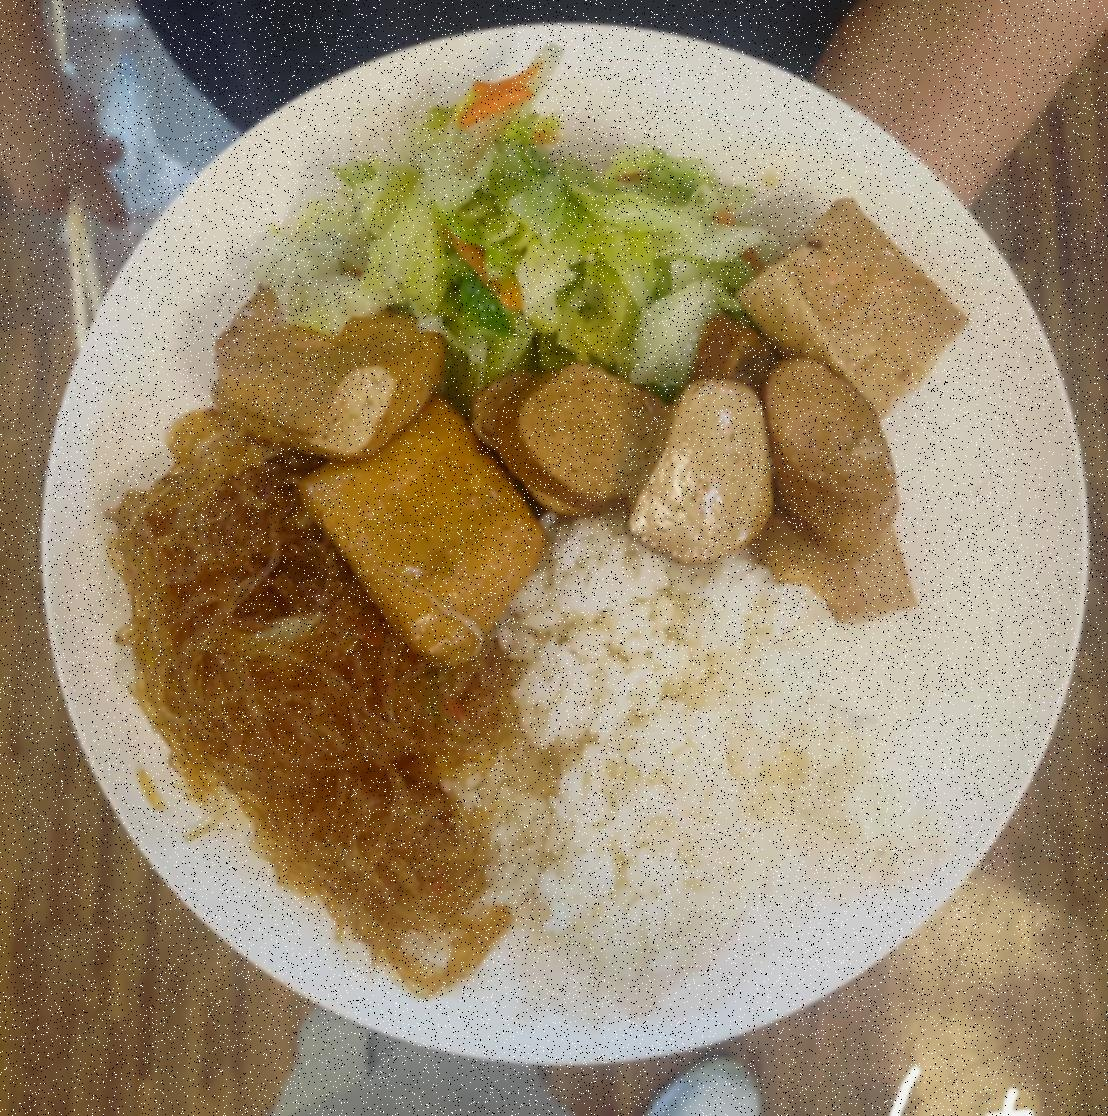plate: (41, 30, 1097, 1067)
side dish: (98, 430, 512, 1009), (532, 191, 953, 606), (298, 74, 752, 392), (223, 280, 548, 645)
white rice: (486, 518, 943, 1014)
